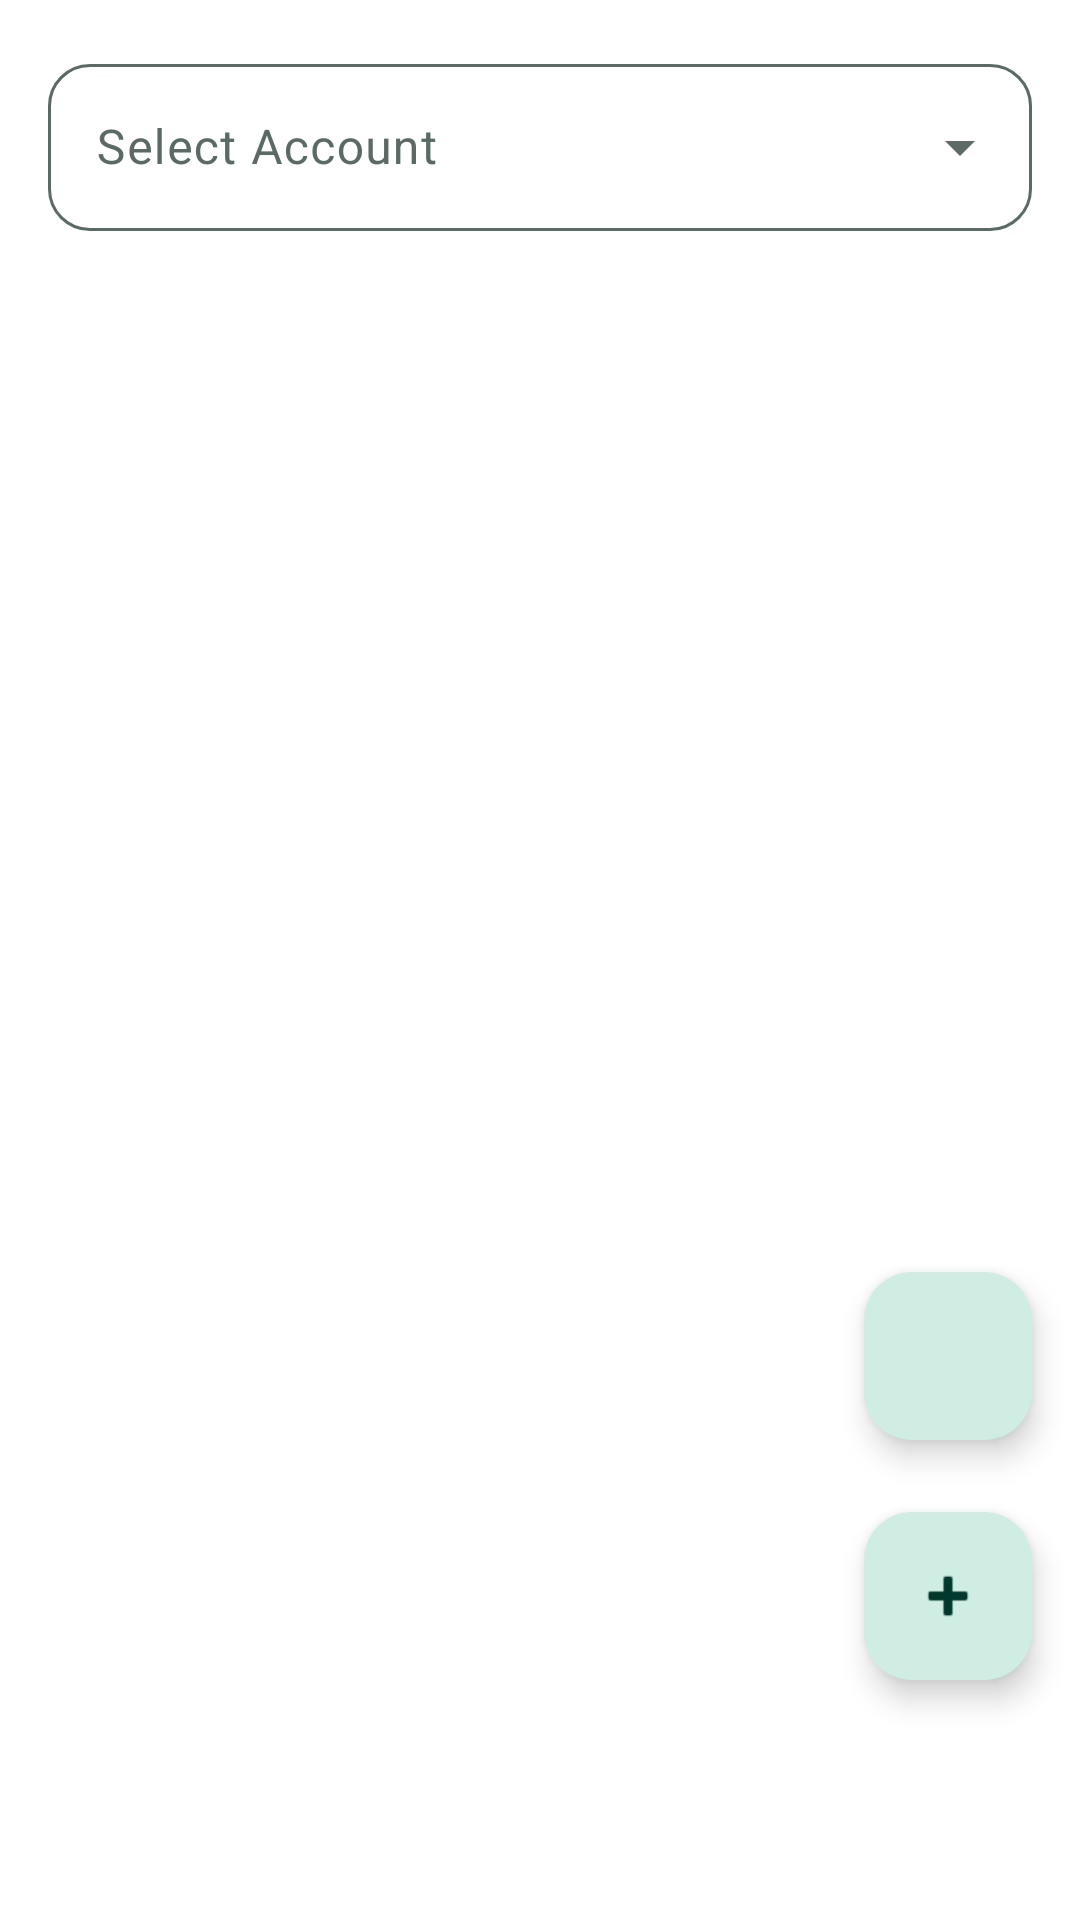

Icons on this 1080w x 1920h Android screen, each with its box as bbox(x1, y1, x2, y2):
Add Transaction: bbox(864, 1512, 1032, 1680)
